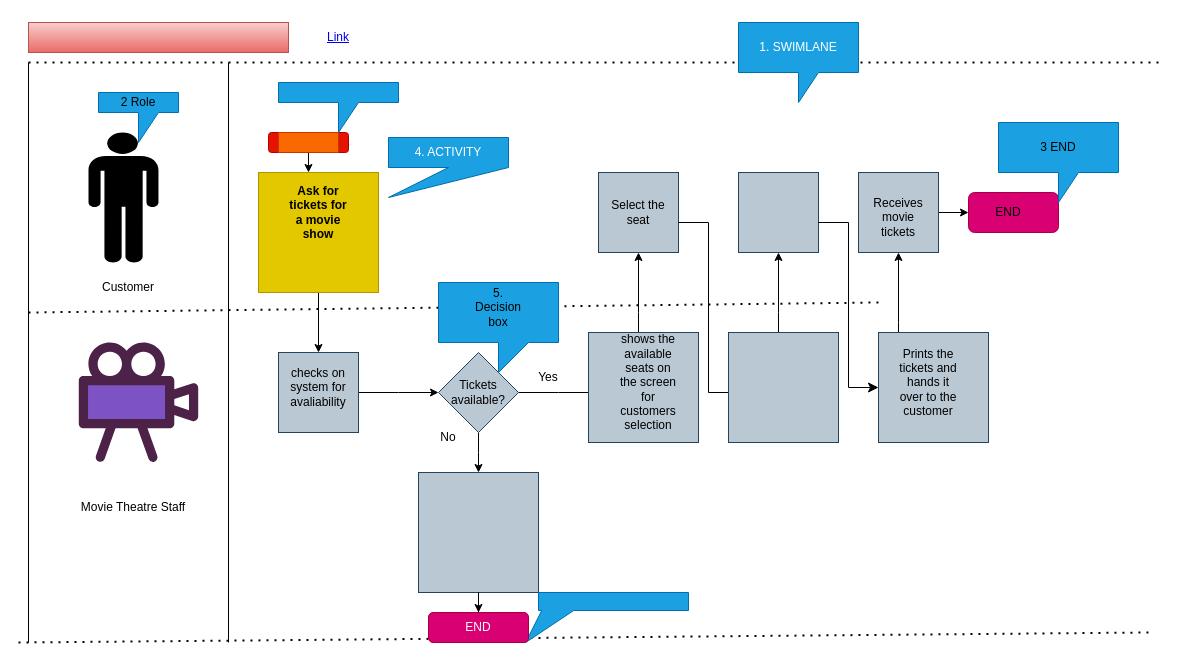
Some shapes in this 1177 by 661 pixel diagram are drawn without their labels. Each missing label, with the centre of its shape:
"3. START" goes at point 338,107.
"3.END" goes at point 613,617.
"Confirms the seat and informs the amount due" goes at point 783,387.
"Informs the customer that the tickets are not available" goes at point 478,532.
"Makes the payments" goes at point 778,212.
"MOVIE TICKET BOOKING" goes at point 158,37.
"START" goes at point 308,142.
